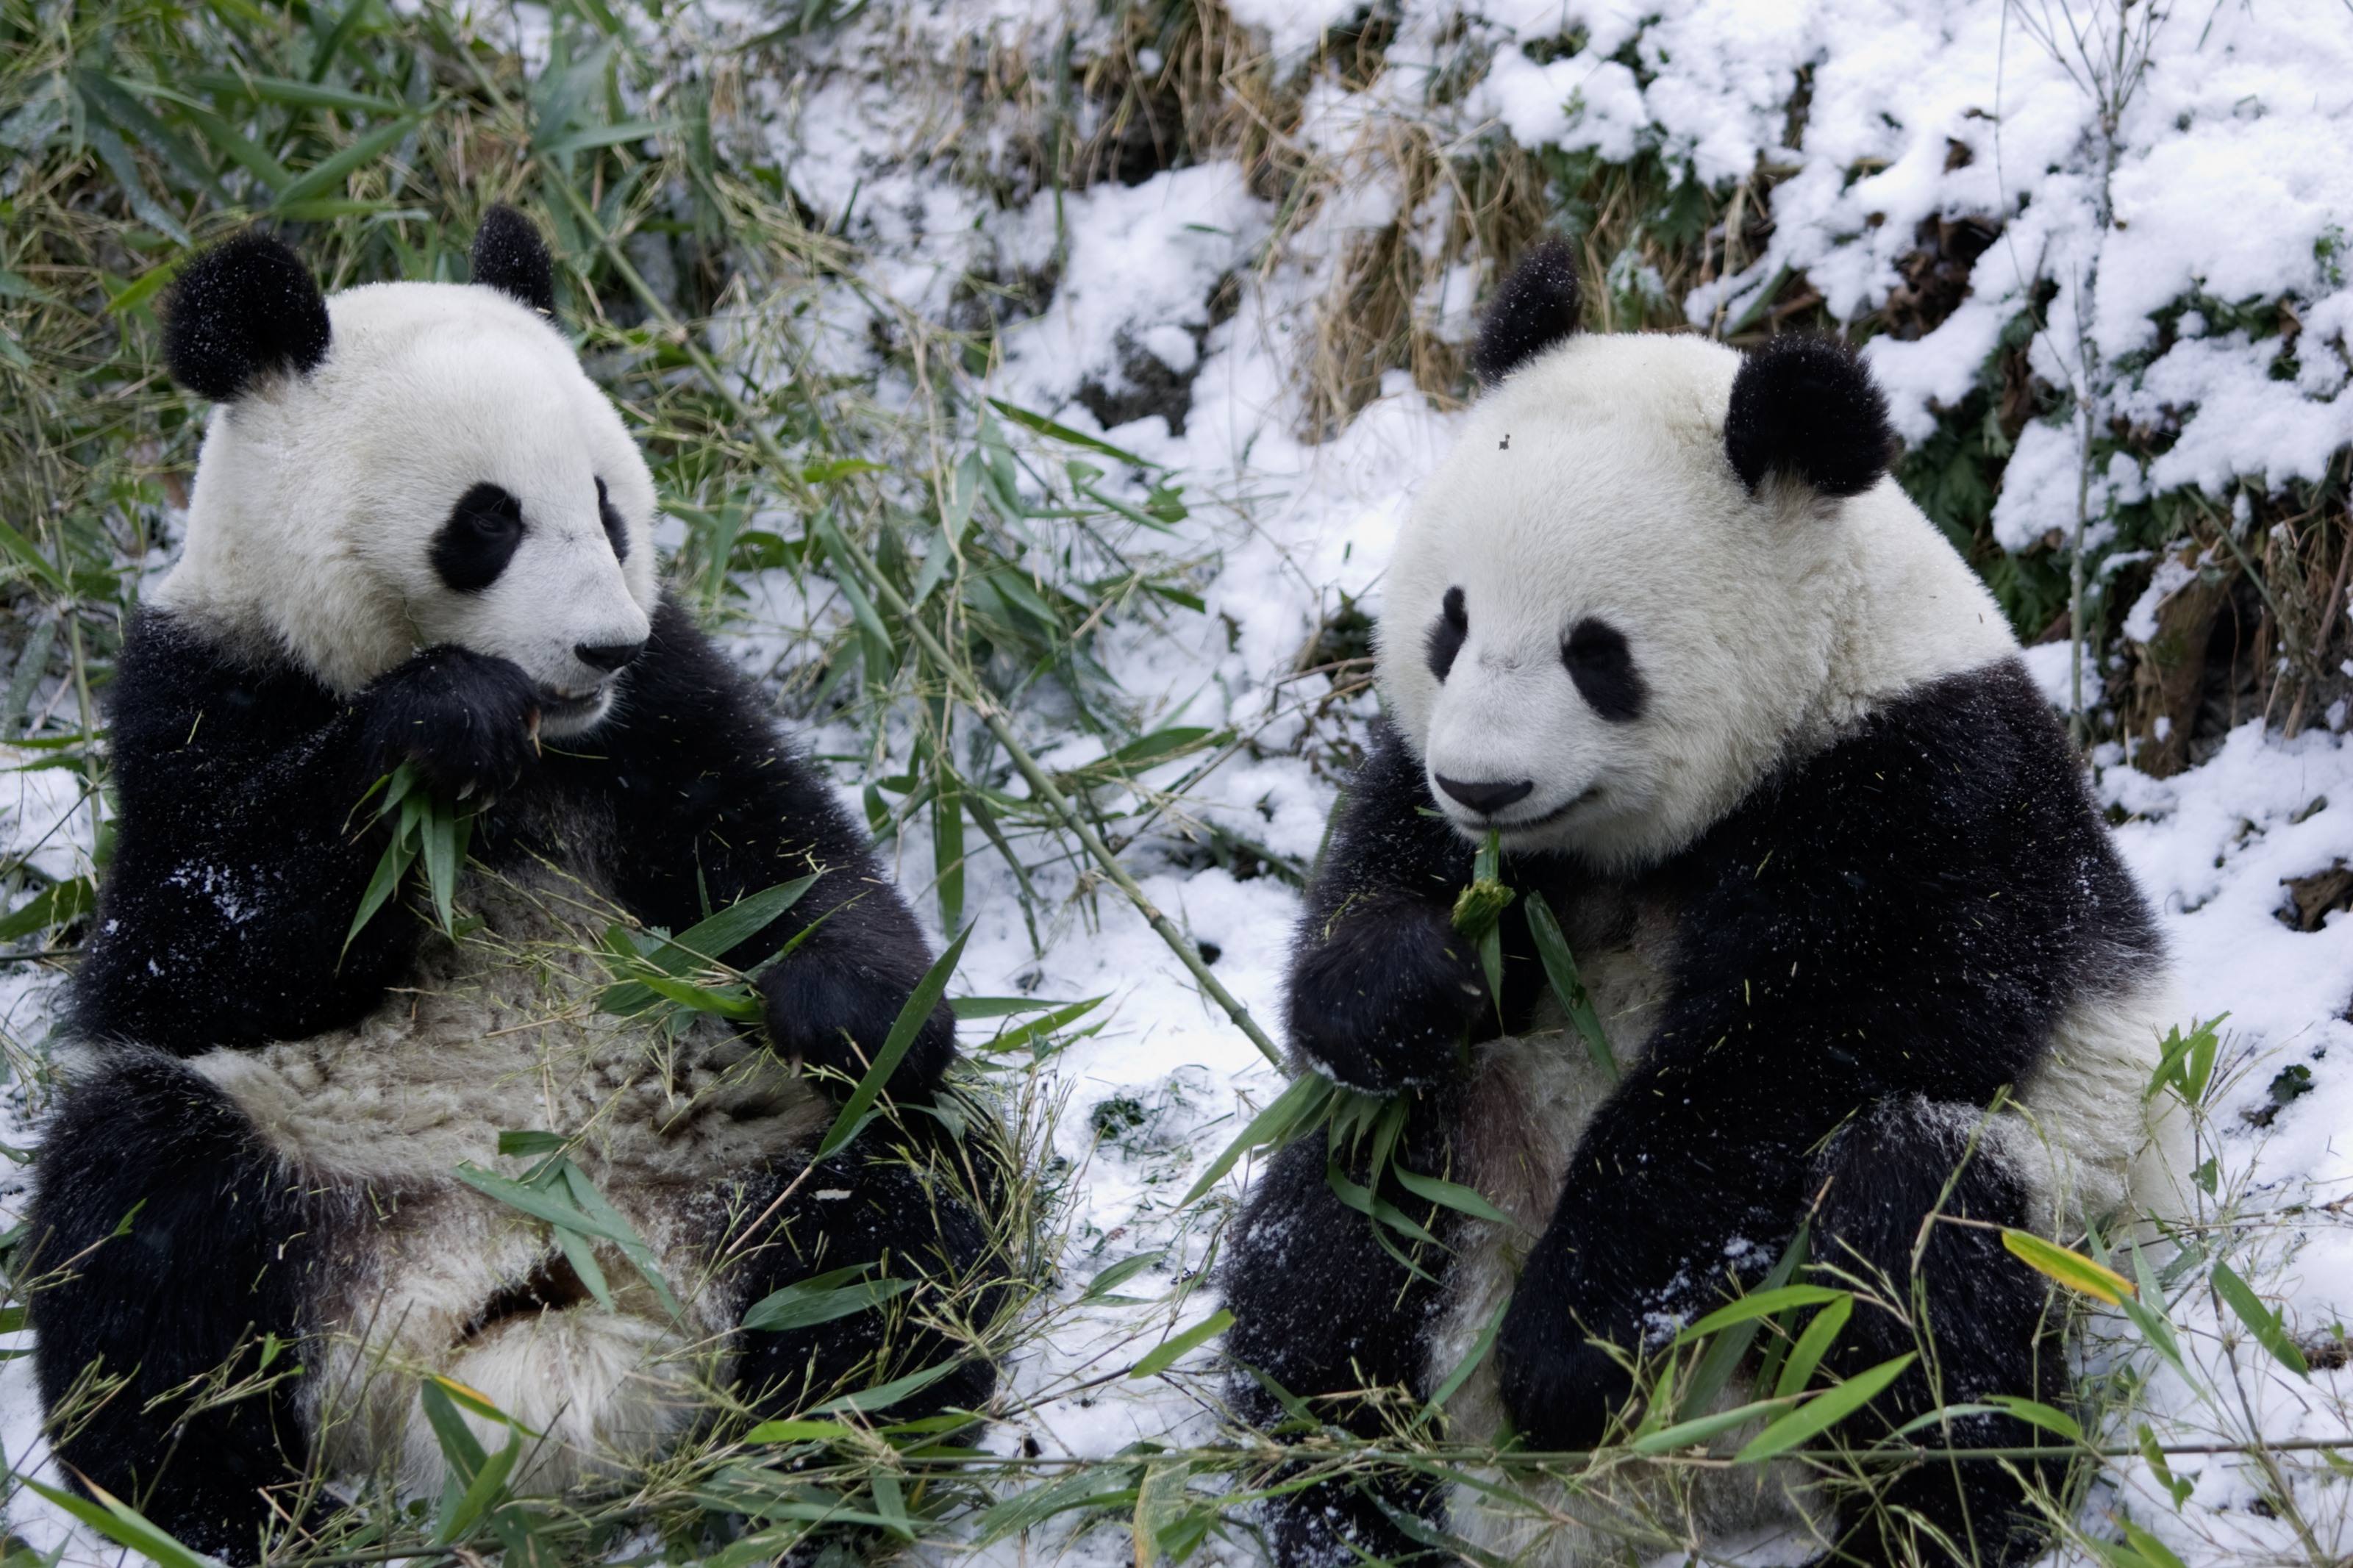panda: (1250, 212, 2260, 1522), (74, 191, 996, 1531)
